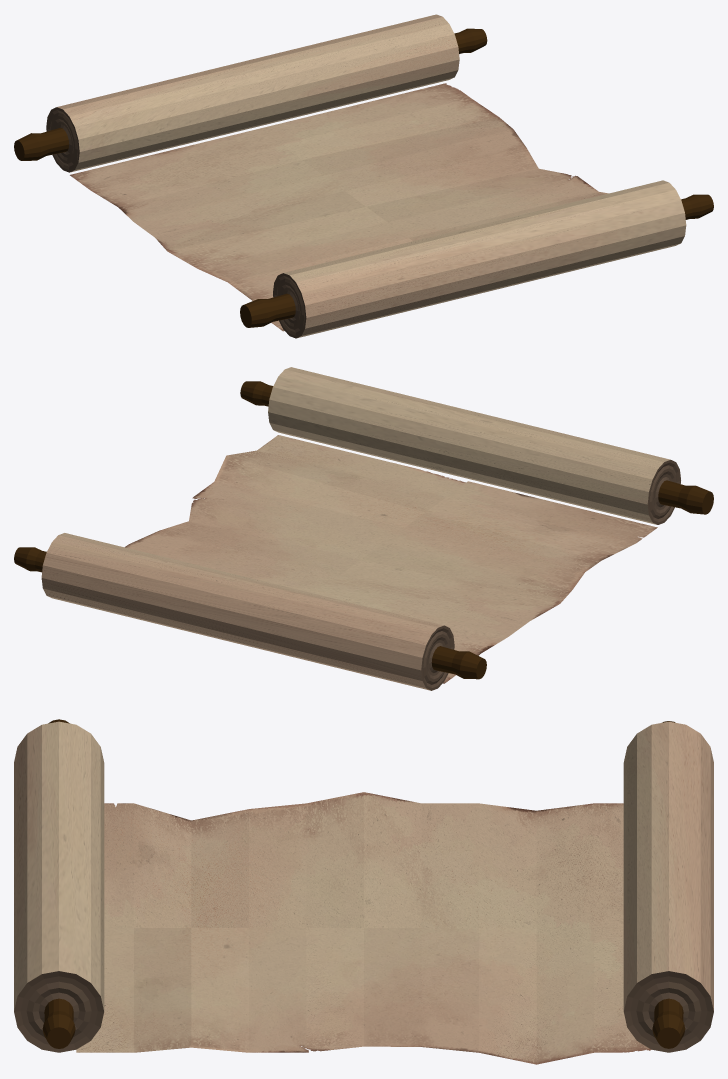
The model's file is Scroll.fbx.
3 views of the same model, one above another, from view 1: azimuth 30°, elevation 25°; view 2: azimuth 150°, elevation 25°; view 3: azimuth 270°, elevation 25° (orthographic). The views are drawn at different scales.
Visible parts, largest first — view 1: Cylinder.048; view 2: Cylinder.048; view 3: Cylinder.048.
Part boxes in pixels (x1,y1,x2,y2): Cylinder.048: [14, 14, 713, 338]; Cylinder.048: [14, 367, 713, 690]; Cylinder.048: [14, 719, 713, 1064].
Size of the model in its own units: 240 by 32.91 by 233.
Materials: 3 (1 with a texture image).
